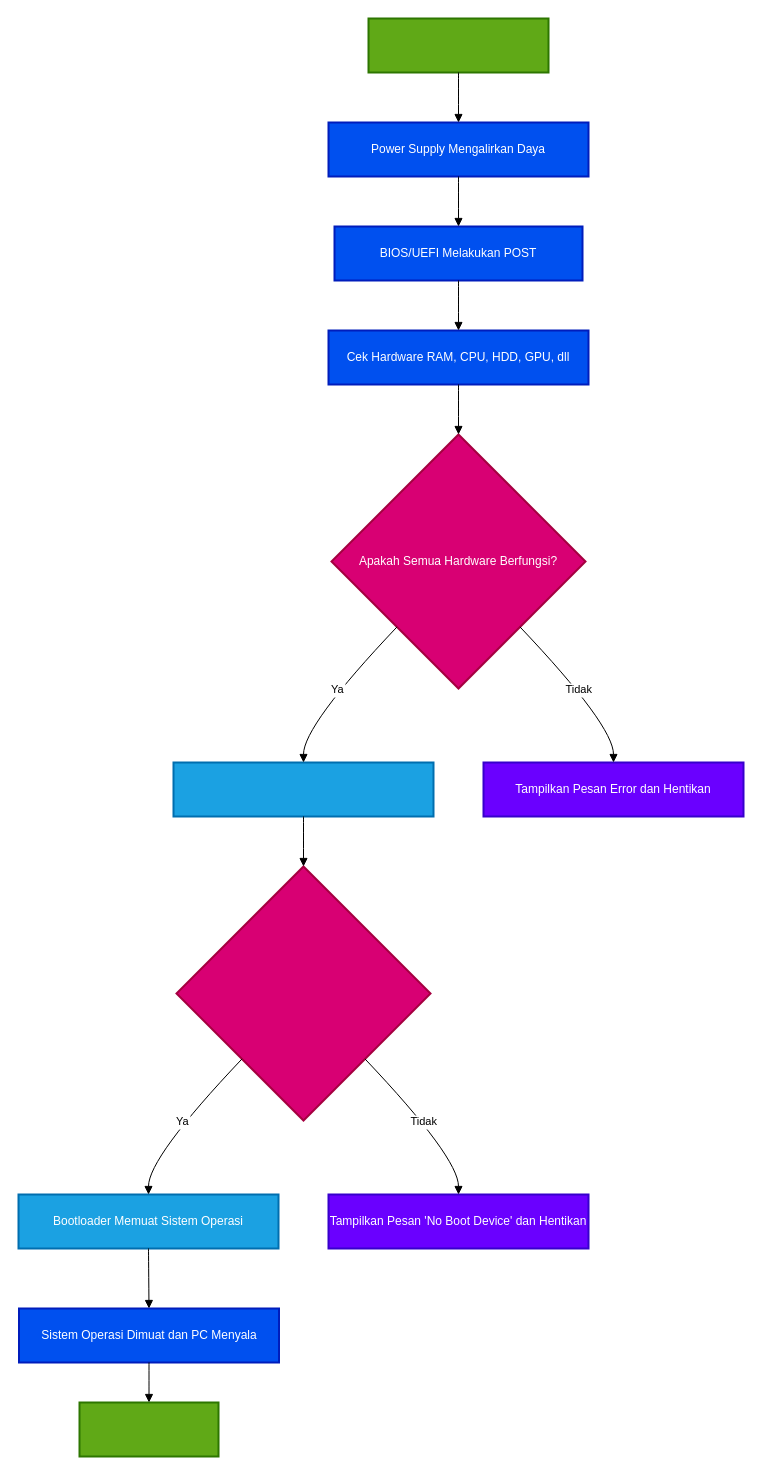
Image size: 761x1474. Some labels were removed from this diagram. Each missing label, with the centre of its shape:
"Apakah Boot Device Ditemukan?" goes at (303,993).
"BIOS/UEFI Mencari Boot Device" goes at (303,789).
"Mulai (Power ON)" goes at (458,45).
"PC Menyala" goes at (148,1429).
